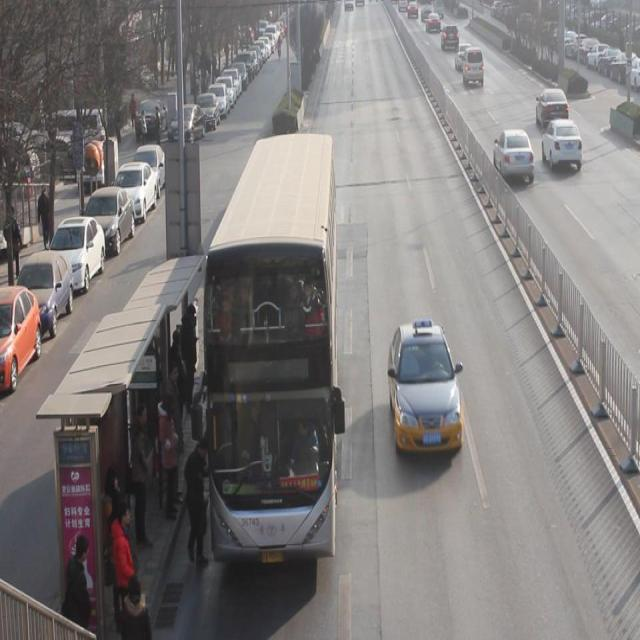car: (387, 319, 466, 460), (493, 128, 537, 183), (541, 116, 584, 171), (535, 85, 571, 127), (440, 21, 461, 51), (455, 41, 473, 69)
truck: (461, 45, 486, 87)
van: (206, 131, 338, 550)
